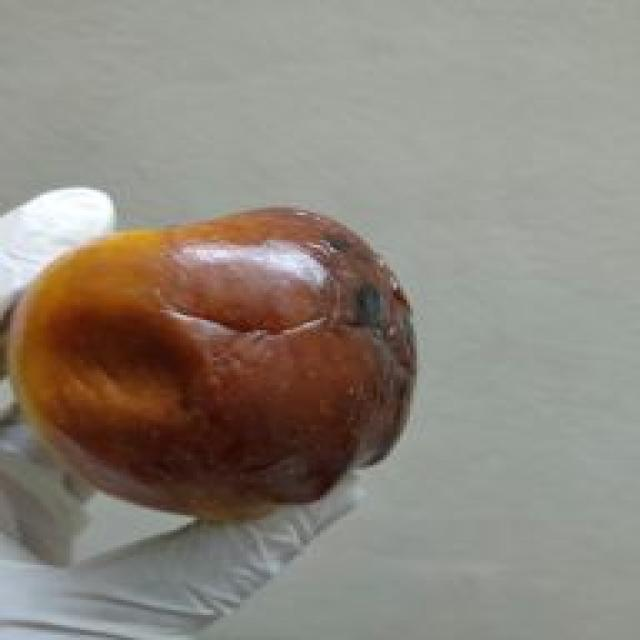Bad_Apple: (12, 208, 415, 518)
